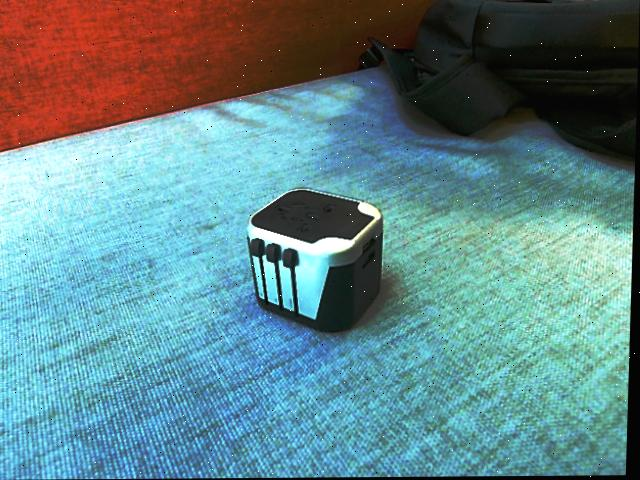adapter: (244, 187, 386, 334)
